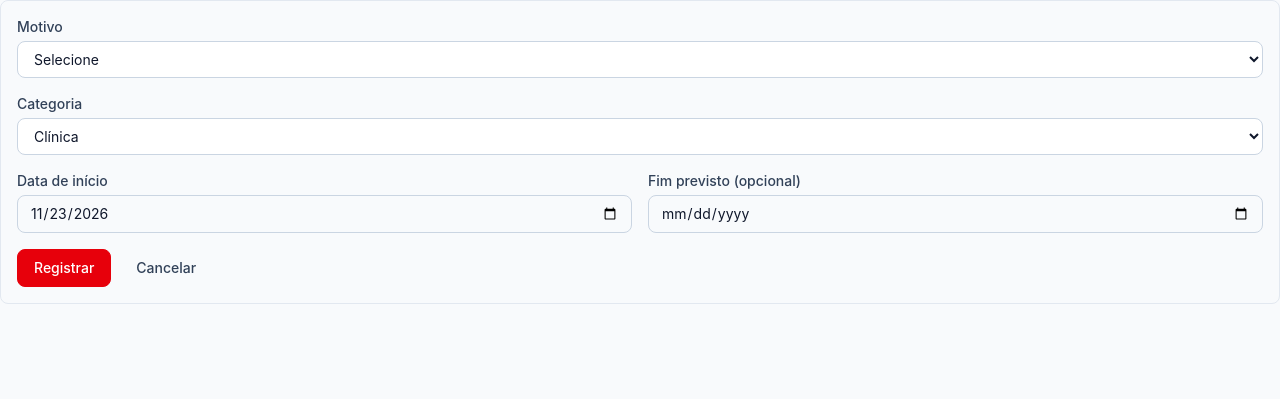
Test: TemporaryUnfitnessForm › "Outro" libera o campo para descrever o motivo
This screenshot has width=1280, height=399.
expect the field labelled "Descreva o motivo" is not shown: met
Select "Outro (descrever)" in the dropdown labelled "Motivo" at (640, 60), box left=17, top=41, right=1263, bottom=78
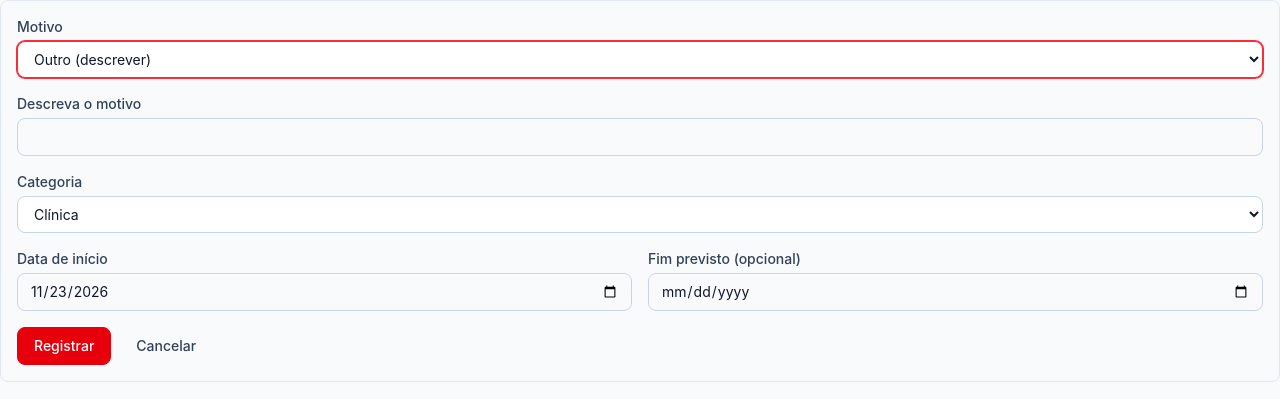
expect the field labelled "Descreva o motivo" is shown: met, box left=17, top=118, right=1263, bottom=156
